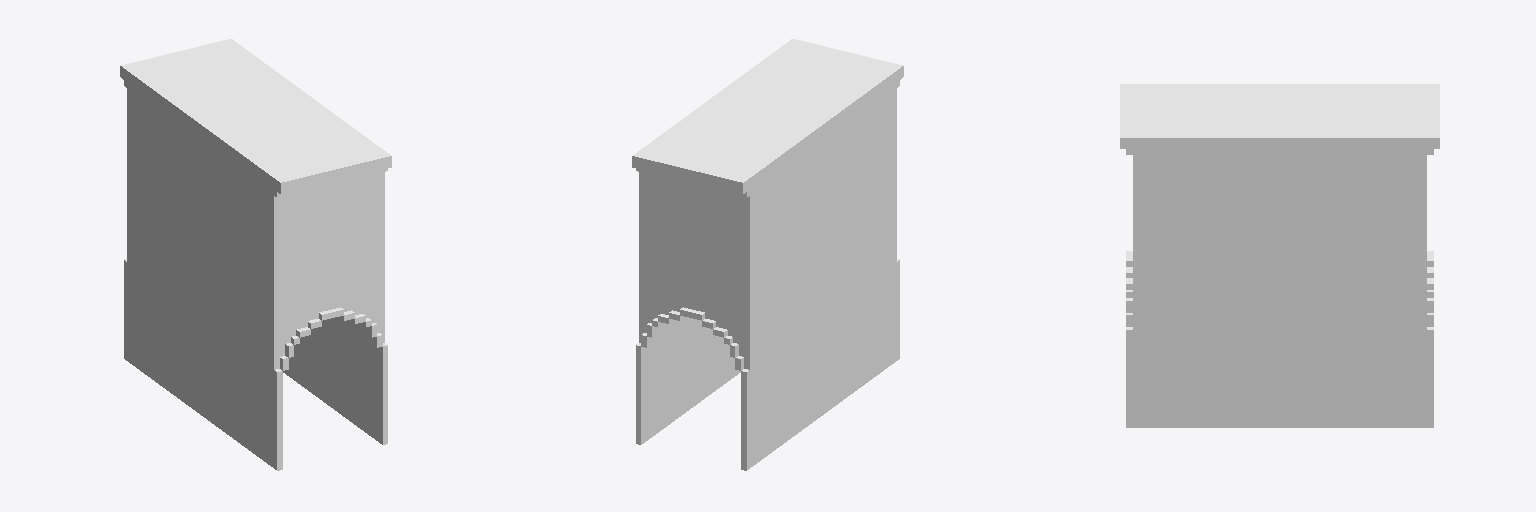
The model's file is tunnelblock_50_50_20.obj.
3 views of the same model, side by side, from view 1: azimuth 30°, elevation 25°; view 2: azimuth 150°, elevation 25°; view 3: azimuth 270°, elevation 25° (orthographic).
Visible parts, largest first — view 1: object 1; view 2: object 1; view 3: object 1.
Boxes of the visible parts, box(x1,y1,x2,y2) form: object 1: box(120, 39, 391, 470); object 1: box(632, 39, 903, 470); object 1: box(1120, 84, 1439, 427).
Size of the model in its own units: 2 by 5 by 5.